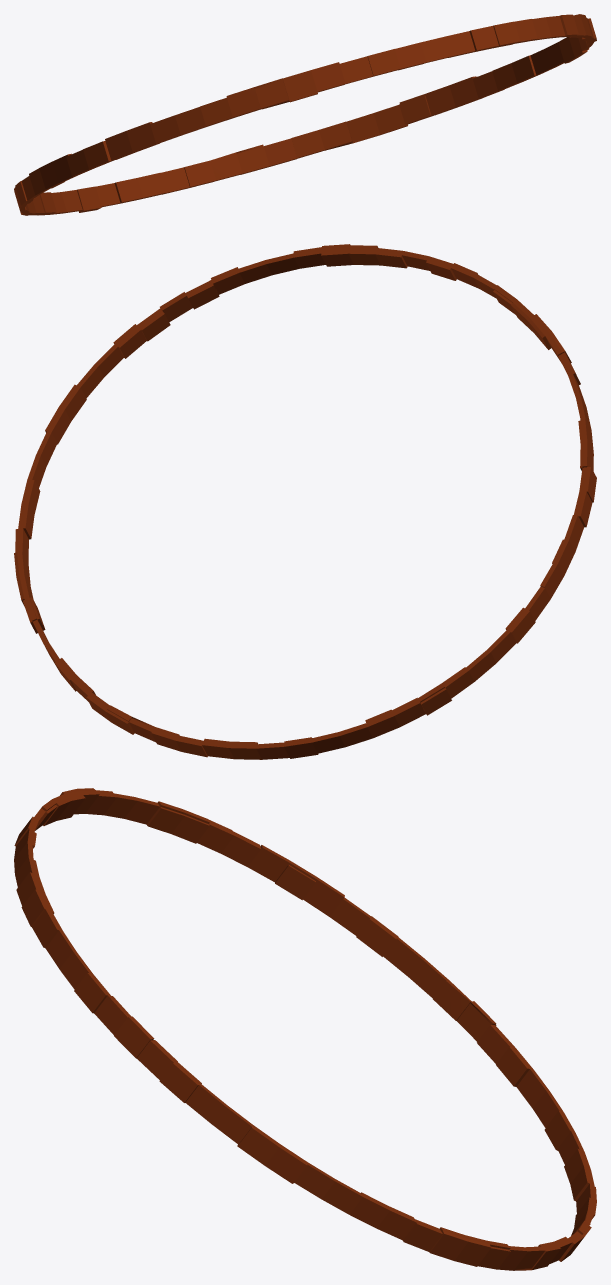
The model's file is ring_big_1.obj.
3 views of the same model, one above another, from view 1: azimuth 30°, elevation 25°; view 2: azimuth 150°, elevation 25°; view 3: azimuth 270°, elevation 25° (orthographic). The views are drawn at different scales.
Size of the model in its own units: 2.01 by 1.2 by 1.69.
